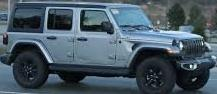SUV: (1, 4, 216, 94)
